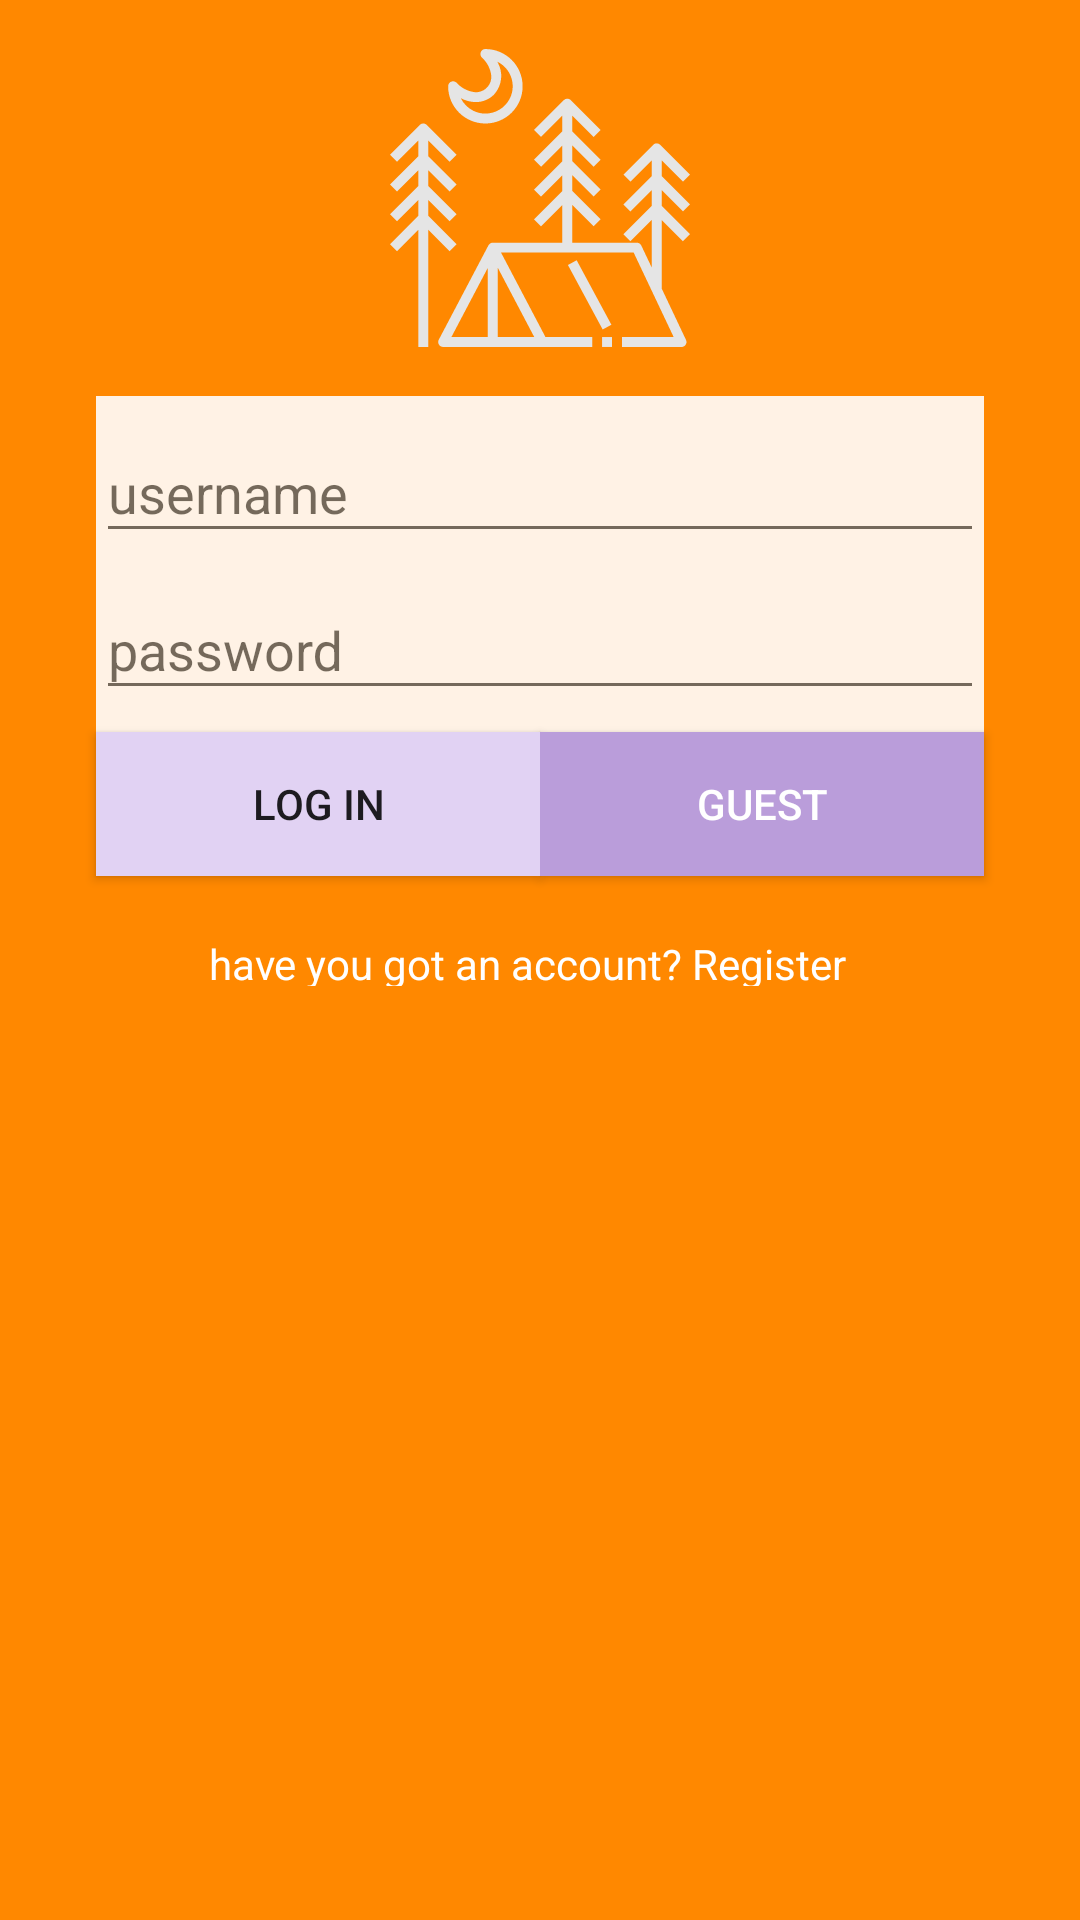

Screen size 1080*1920. Icon name, then its box in pixels as (x1, y1, x2, y2):
tent: (390, 49, 690, 347)
